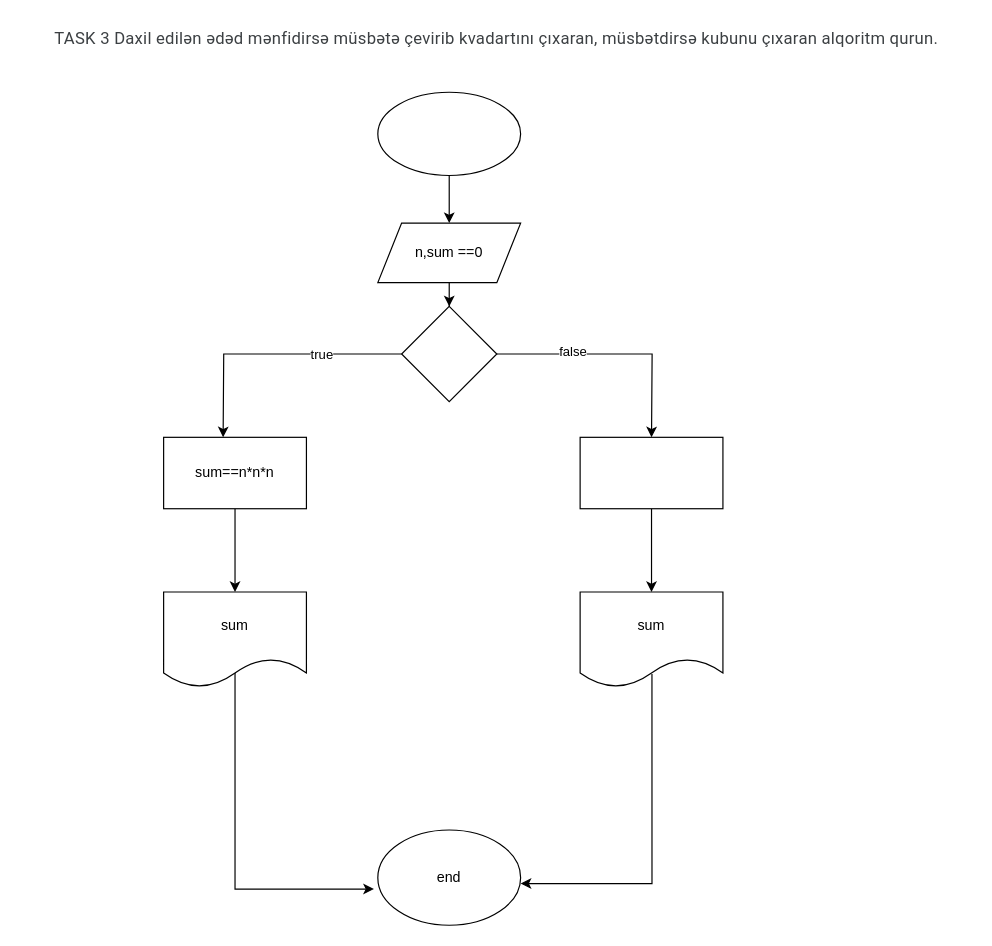
This 992x946 diagram has some shape labels left out. The centre of each missing label's shape, as x and y in pixels:
"n==n*(-1) sum==n*n" goes at point 651,472.
"n>0" goes at point 448,353.
"start" goes at point 449,133.
